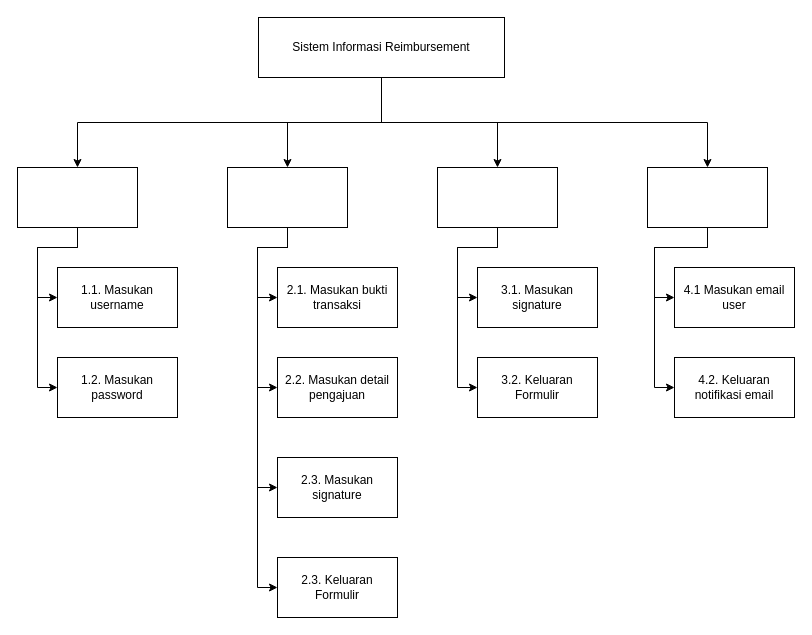
This 812x635 diagram has some shape labels left out. Here are the shapes that lost their labels. From the top down, the centre of each, then its label:
the point at 77,197: 1. Proses Login
the point at 287,197: 2. Proses Pengajuan
the point at 497,197: 3. Proses Penyetujuan
the point at 707,197: 4. Proses Notifikasi
